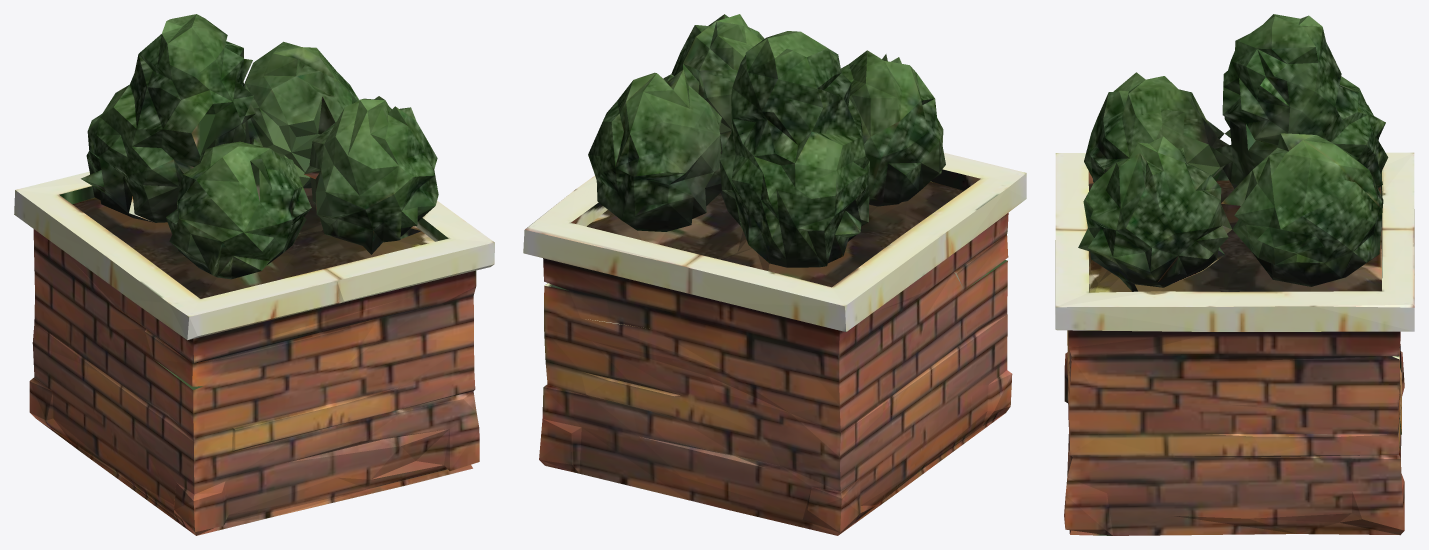
The model's file is planter.glb.
3 renders of one model, left to right at view 1: azimuth 30°, elevation 25°; view 2: azimuth 150°, elevation 25°; view 3: azimuth 270°, elevation 25°, orthographic. The views are drawn at different scales.
Visible parts, largest first — view 1: figure; view 2: figure; view 3: figure.
Boxes of the visible parts, <box> form: figure: <box>14,14,494,535</box>; figure: <box>523,14,1026,535</box>; figure: <box>1055,14,1414,535</box>.
Bounding box in the file's own units: 0.7777 × 1 × 0.7629.
Materials: 1 (1 with a texture image).
